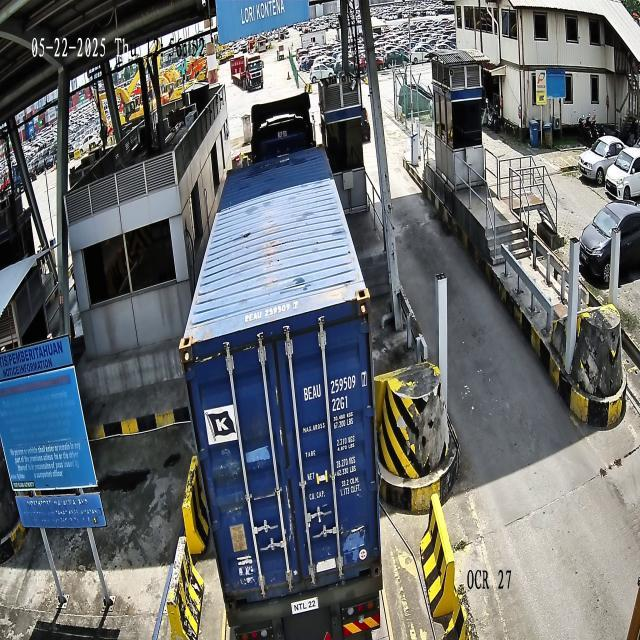ISO: (332, 394, 348, 416)
container_number: (302, 368, 368, 403)
